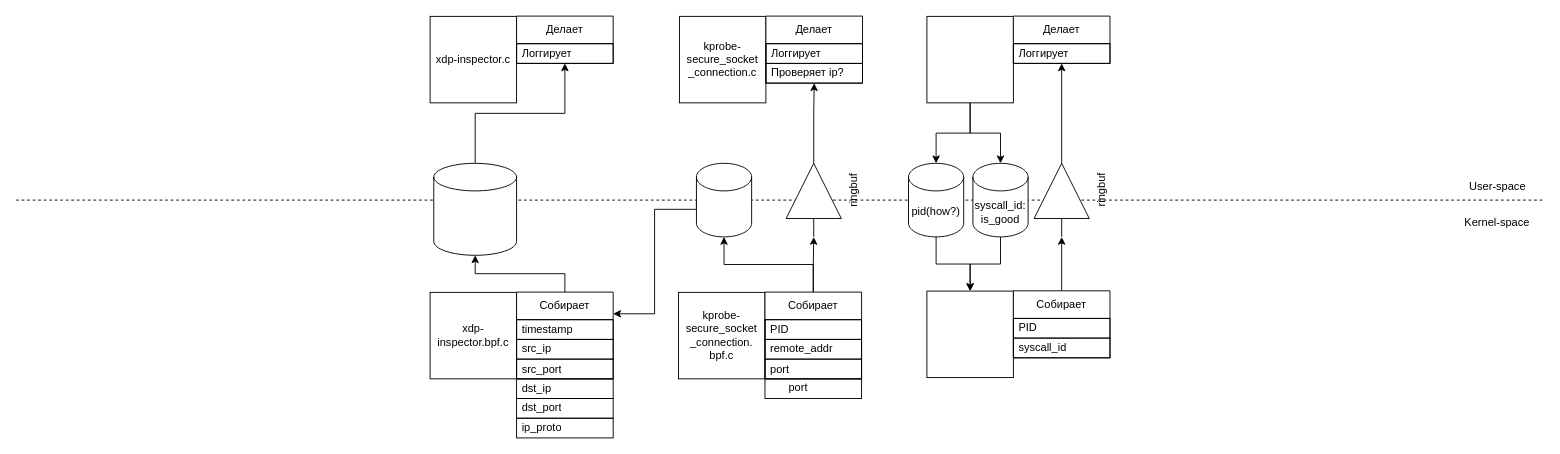
Image size: 1560x454. Some labels were removed from this diagram. Each missing label, with the box of its shape:
etc...: (764, 378, 862, 399)
port:pid: (696, 162, 752, 237)
tc-all_syscalls.bpf.c: (926, 290, 1013, 378)
tc-all_syscalls.c: (926, 15, 1013, 103)
tsp_sip_sport: dip_dport_proto: (433, 162, 517, 255)
